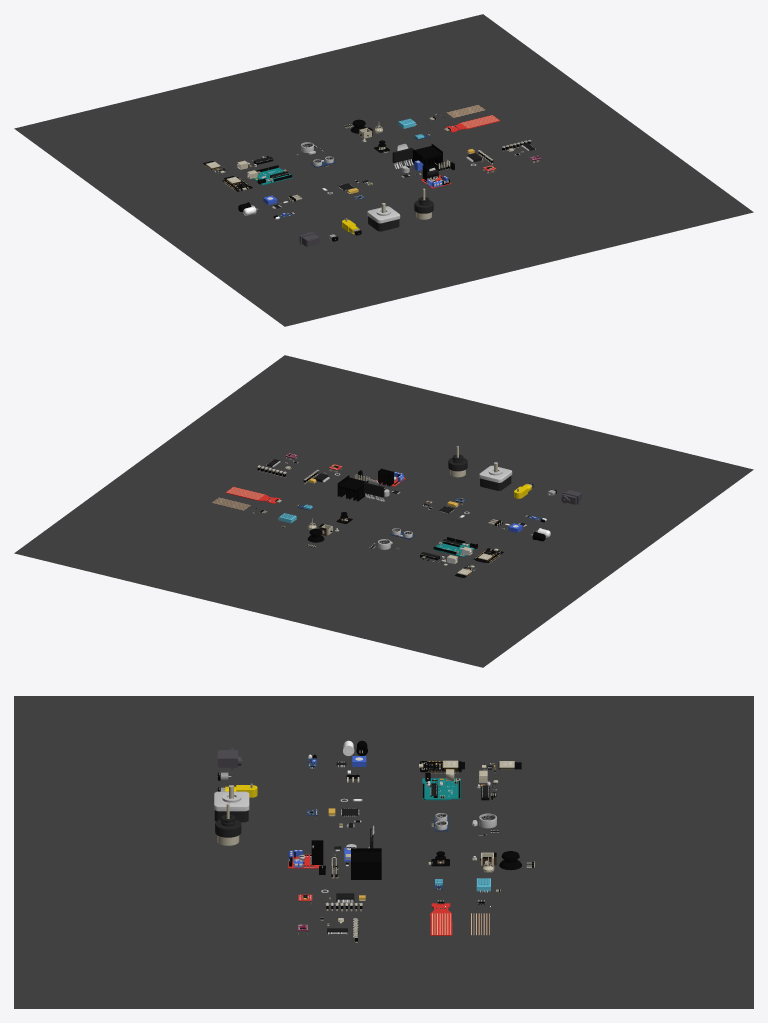
File: electronics_components.glb
3 views of the same model, one above another, from view 1: azimuth 30°, elevation 25°; view 2: azimuth 150°, elevation 25°; view 3: azimuth 270°, elevation 25° (orthographic). The views are drawn at different scales.
Parts seen in each view (by area): view 1: Plane, Plane.005, arduino; view 2: Plane, Plane.005, arduino, Plane.027; view 3: Plane, Plane.005, arduino, Plane.027, L298n, Plane.003, Cylinder, esp32.
Boxes of the visible parts, x1,y1,x2,y2 form: Plane: (14,14,753,326); Plane.005: (367,203,400,231); arduino: (247,165,292,185); Plane: (14,355,753,667); Plane.005: (479,462,512,490); arduino: (433,537,477,557); Plane.027: (337,475,368,501); Plane: (14,696,753,1008); Plane.005: (214,785,249,822); arduino: (422,769,460,800); Plane.027: (351,848,381,879); L298n: (288,840,323,868); Plane.003: (430,900,452,935); Cylinder: (215,803,241,845); esp32: (419,760,464,773).
Bounding box in the file's own units: 262 × 18.79 × 262.
